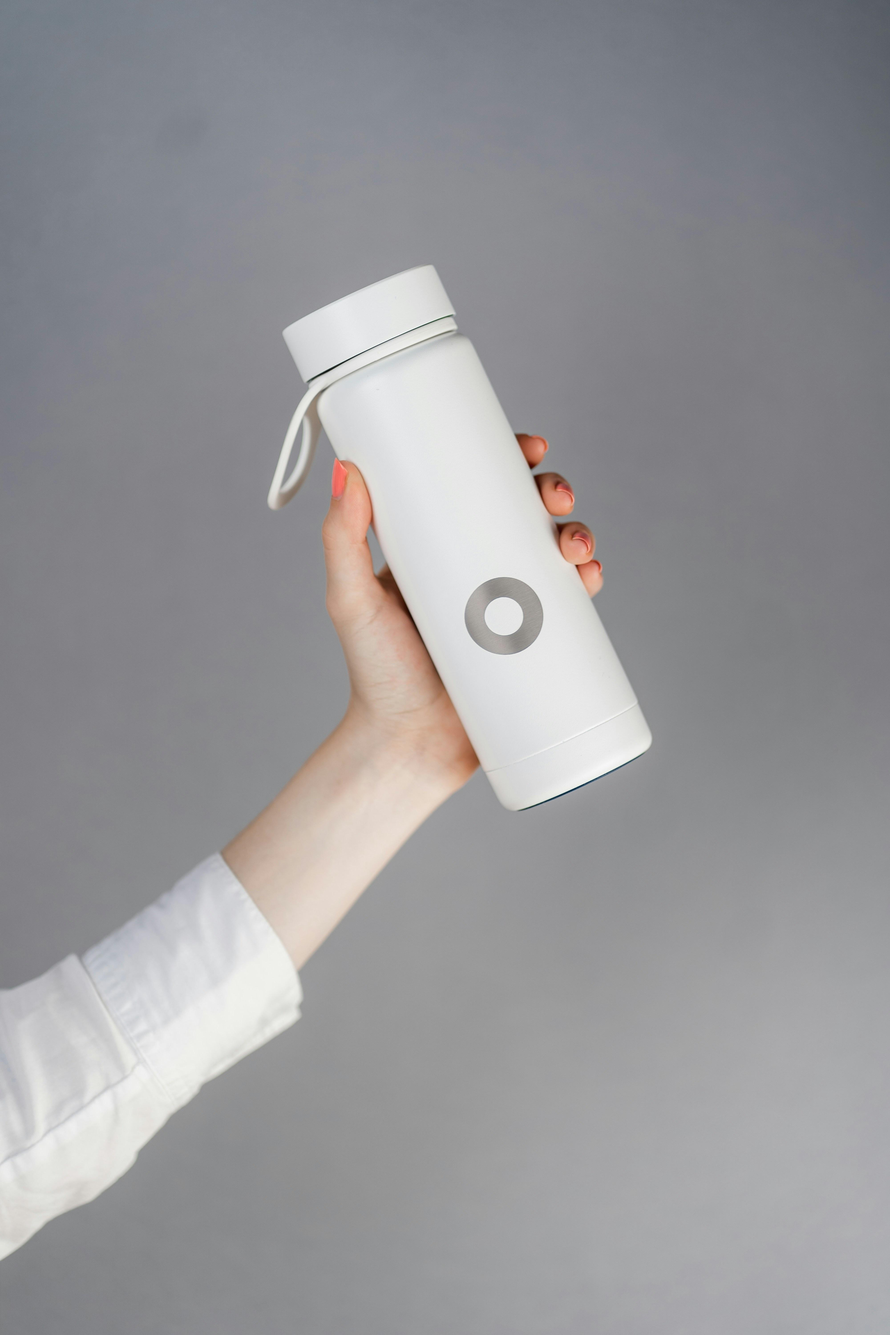Bottle-Detection: (229, 207, 714, 850)
